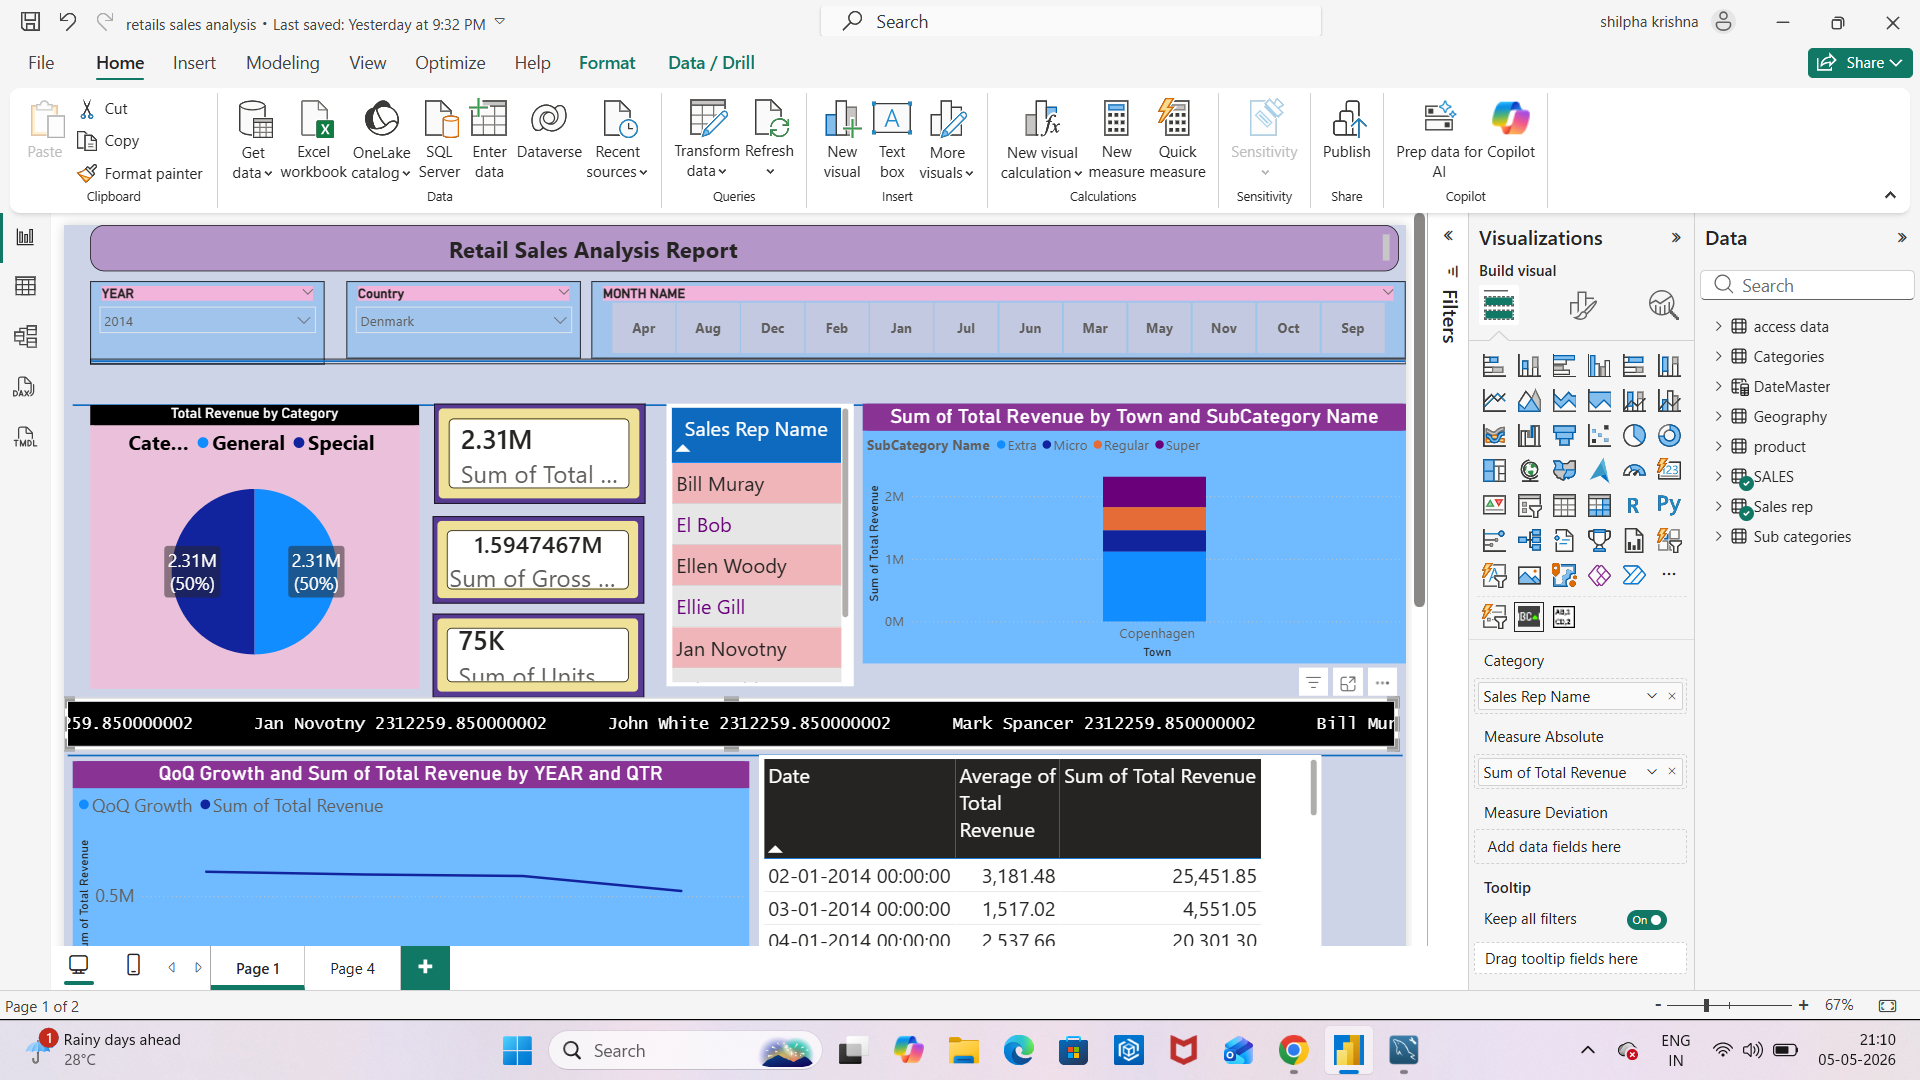

This screenshot's page, from the dashboard's own definition file:
{"tool":"powerbi","page":{"name":"Page 1","canvas":[1600,1600],"ordinal":0},"visuals":[{"type":"textbox","box":[31.3,0,1560,55.5],"z":0},{"type":"slicer","fields":{"Values":["Geography.Country"]},"box":[336.9,67.4,279.6,91.8],"z":1000},{"type":"slicer","fields":{"Values":["DateMaster.YEAR"]},"box":[31.5,67.4,279.6,98.9],"z":2000},{"type":"slicer","fields":{"Values":["DateMaster.MONTH NAME"]},"box":[629.4,67.4,970,91.8],"z":3000},{"type":"shape","box":[31.9,159.4,1568.4,6.1],"z":4000},{"type":"shape","box":[9.7,202.2,1290.6,24.2],"z":5000},{"type":"pieChart","title":"Total Revenue by Category","fields":{"Category":["Categories.Category"],"Y":["Sum(SALES.Total Revenue)"]},"box":[31.9,214.1,391.7,338.6],"z":6000},{"type":"cardVisual","fields":{"Data":["Sum(SALES.Total Revenue)"]},"box":[441.1,213.1,251.8,119.2],"z":7000},{"type":"cardVisual","fields":{"Data":["Sum(SALES.Units)"]},"box":[439.6,463.4,251.8,99.8],"z":8000},{"type":"cardVisual","fields":{"Data":["Sum(SALES.Gross Profit)"]},"box":[439.6,347.2,251.8,104.3],"z":9000},{"type":"tableEx","fields":{"Values":["Sales rep.Sales Rep Name"]},"box":[717.5,213.8,223,337.1],"z":10000},{"type":"columnChart","fields":{"Y":["Sum(SALES.Total Revenue)"],"Category":["Geography.Town"],"Series":["Sub categories.SubCategory Name"]},"box":[952.3,213.8,648,309.6],"z":11000},{"type":"ScrollingTextVisual1448795304508","fields":{"Category":["Sales rep.Sales Rep Name"],"Measure Absolute":["Sum(SALES.Total Revenue)"]},"box":[0,562.7,1591.1,63],"z":12000},{"type":"shape","box":[3.9,625.7,1591.1,13.1],"z":13000},{"type":"lineChart","fields":{"Y":["SALES.QoQ Growth","Sum(SALES.Total Revenue)"],"Category":["DateMaster.YEAR","DateMaster.QTR"]},"box":[10.4,639.2,806.1,444],"z":14000},{"type":"tableEx","fields":{"Values":["DateMaster.Date","Avg(SALES.Total Revenue)","Sum(SALES.Total Revenue)1"]},"box":[828.5,631.8,670.5,911.9],"z":15000},{"type":"lineChart","fields":{"Y":["SALES.QoQ Growth","Sum(SALES.Total Revenue)"],"Category":["DateMaster.YEAR","DateMaster.QTR"]},"box":[10.4,1099.7,806.1,444],"z":16000}]}

Visuals, with their boxes on the page's 1600x1600 design canvas (x1, y1, x2, y2). These are canvas units, not pixel positions in the 1920x1080 screenshot, which may show the page scaled, cropped or inside an application window:
textbox: <box>31,0,1591,56</box>
slicer - Geography.Country: <box>337,67,616,159</box>
slicer - DateMaster.YEAR: <box>32,67,311,166</box>
slicer - DateMaster.MONTH NAME: <box>629,67,1599,159</box>
shape: <box>32,159,1600,166</box>
shape: <box>10,202,1300,226</box>
"Total Revenue by Category" pieChart: <box>32,214,424,553</box>
cardVisual - Sum(SALES.Total Revenue): <box>441,213,693,332</box>
cardVisual - Sum(SALES.Units): <box>440,463,691,563</box>
cardVisual - Sum(SALES.Gross Profit): <box>440,347,691,452</box>
tableEx - Sales rep.Sales Rep Name: <box>718,214,940,551</box>
columnChart - Sum(SALES.Total Revenue) x Geography.Town: <box>952,214,1600,523</box>
ScrollingTextVisual1448795304508 - Sales rep.Sales Rep Name x Sum(SALES.Total Revenue): <box>0,563,1591,626</box>
shape: <box>4,626,1595,639</box>
lineChart - SALES.QoQ Growth x Sum(SALES.Total Revenue): <box>10,639,816,1083</box>
tableEx - DateMaster.Date x Avg(SALES.Total Revenue): <box>828,632,1499,1544</box>
lineChart - SALES.QoQ Growth x Sum(SALES.Total Revenue): <box>10,1100,816,1544</box>
